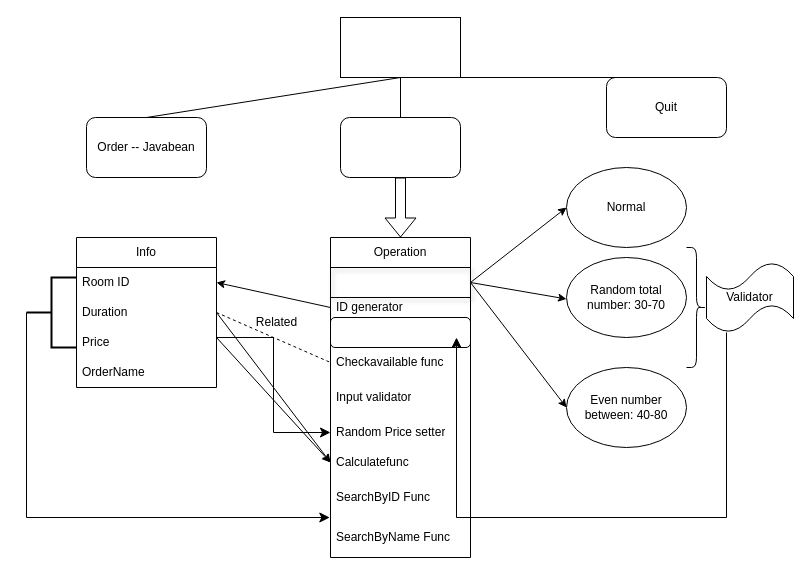
The diagram is 811 pixels wide and 575 high, and some of its shapes have lost their labels. Here are the shapes that lost their labels. From the top down, the centre of each, then its label:
At point (400, 47): "Booking system".
At point (400, 147): "Order Operator".
At point (401, 283): "Inventory setter".
At point (400, 332): "Roomtype Check".
